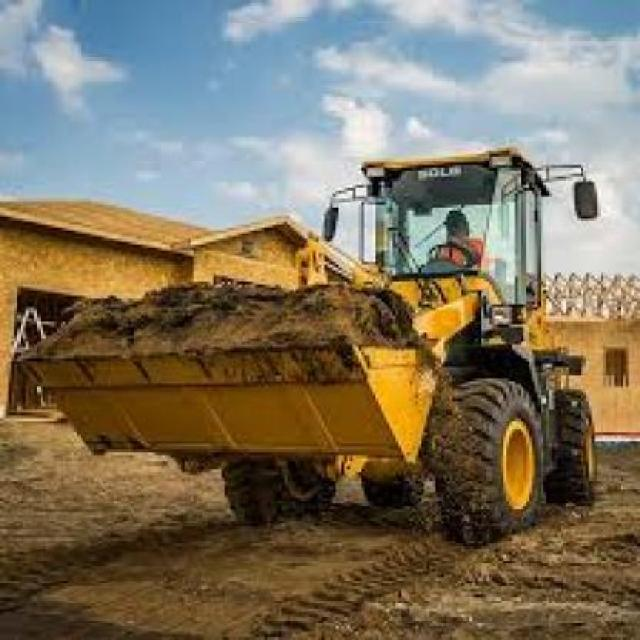buldozerpayloadergrader: (6, 144, 616, 545)
